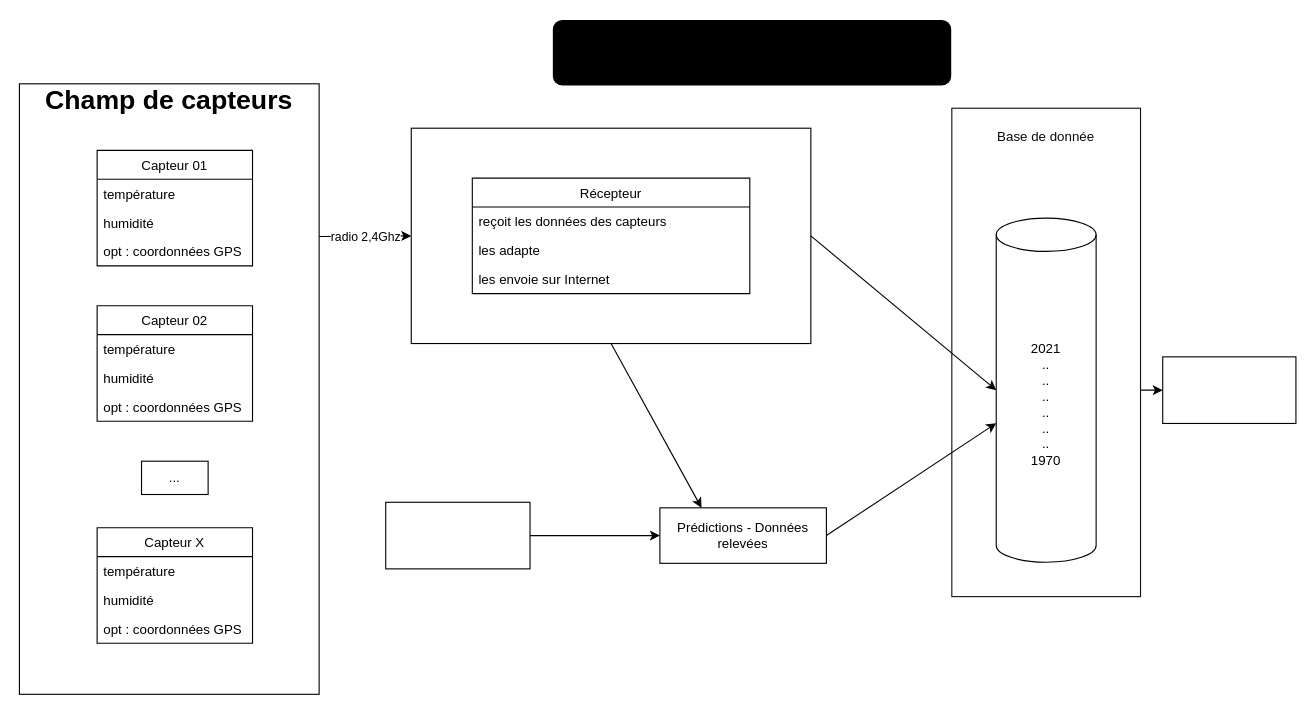
Some shapes in this 1315 by 714 pixel diagram are drawn without their labels. The centre of each missing label's shape, as x and y in pixels:
"La boîte noire" belongs at [751,52].
"Platforme de monitoring (Grafana)" belongs at [1229,389].
"Prédictions météo France" belongs at [457,535].
